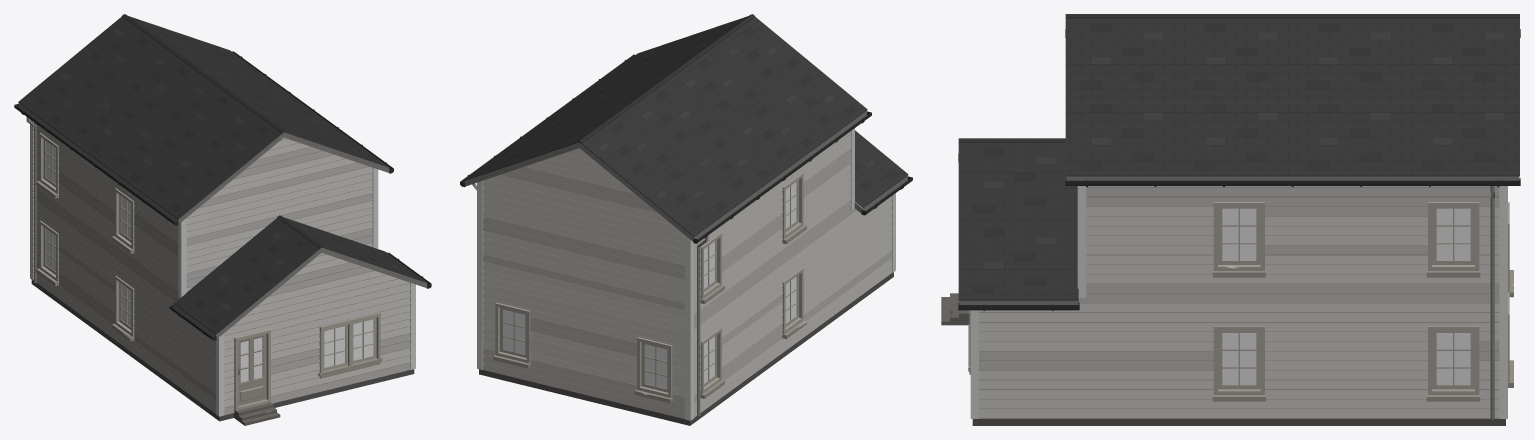
Rendered from SM_Bldg_Suburb_House_09.fbx.
3 renders of one model, left to right at view 1: azimuth 30°, elevation 25°; view 2: azimuth 150°, elevation 25°; view 3: azimuth 270°, elevation 25°, orthographic. The views are drawn at different scales.
Parts seen in each view (by area): view 1: SM_Bldg_Suburb_House_09, SM_Bldg_Suburb_House_09_Glass, SM_Bldg_Suburb_House_09_Door; view 2: SM_Bldg_Suburb_House_09, SM_Bldg_Suburb_House_09_Glass; view 3: SM_Bldg_Suburb_House_09, SM_Bldg_Suburb_House_09_Glass.
Part boxes in pixels (box(x1,y1,x2,y2)): SM_Bldg_Suburb_House_09: box(14, 14, 431, 425); SM_Bldg_Suburb_House_09_Glass: box(46, 141, 373, 367); SM_Bldg_Suburb_House_09_Door: box(238, 334, 266, 405); SM_Bldg_Suburb_House_09: box(460, 14, 912, 425); SM_Bldg_Suburb_House_09_Glass: box(503, 182, 796, 388); SM_Bldg_Suburb_House_09: box(941, 14, 1520, 425); SM_Bldg_Suburb_House_09_Glass: box(1222, 208, 1470, 384).
Size of the model in its own units: 844 by 887 by 1351.
